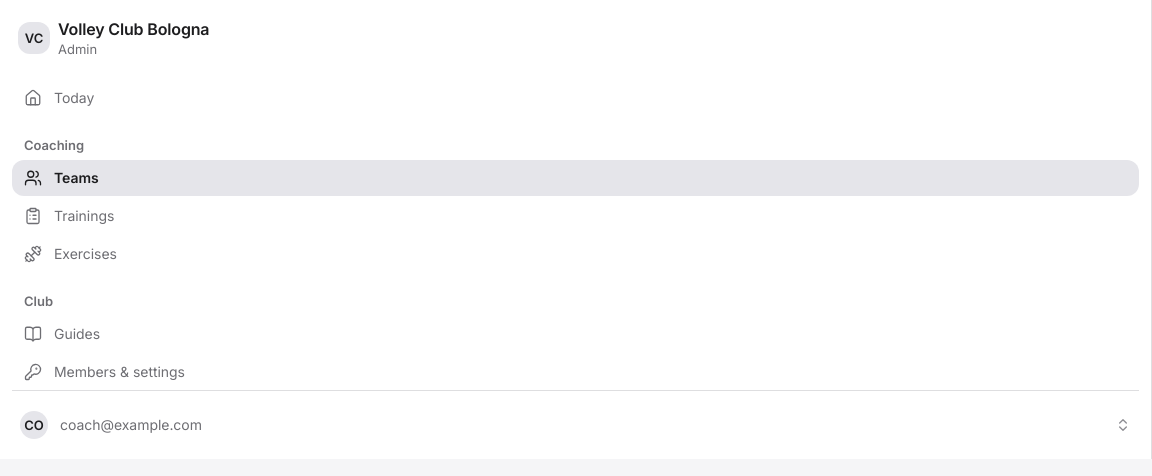
Test case: Sidebar › keeps the account menu items in order
Click the button with aria-label "Account: coach@example.com": (131, 424) 12,403 -> 1139,447
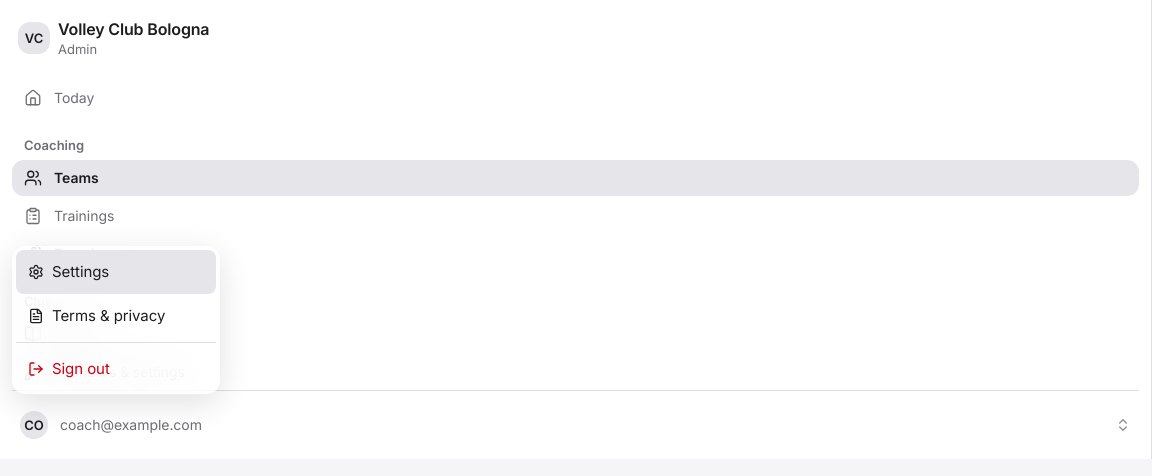
Result: the menu items read "Settings", "Terms & privacy", "Sign out", in this order at 16,250 -> 216,294; 16,294 -> 216,338; 16,347 -> 216,391
